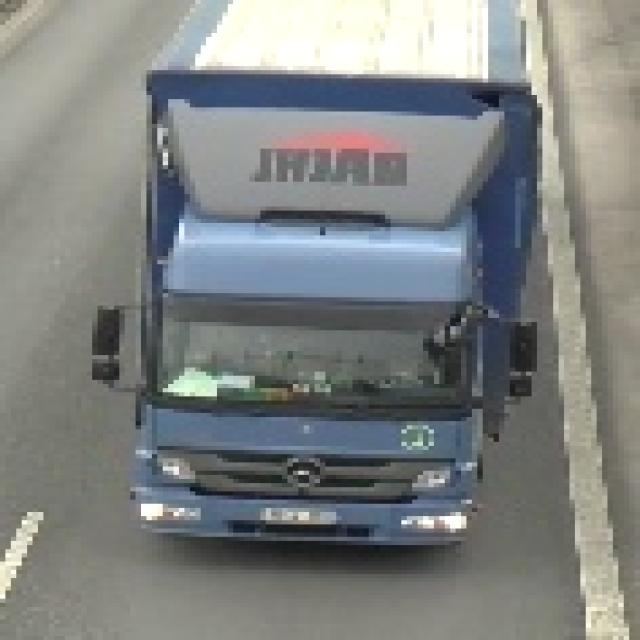TRUCK: (97, 3, 540, 566)
